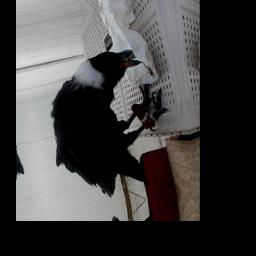Crow: (38, 37, 182, 208)
